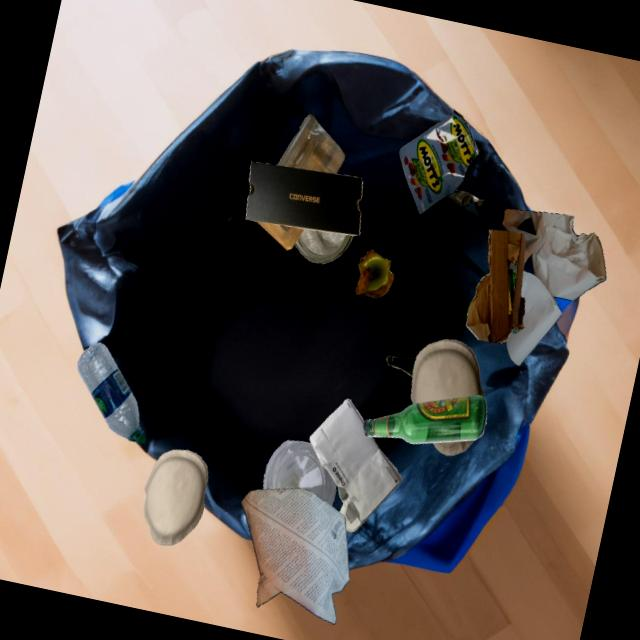biowaste: (355, 250, 393, 298)
cardboard: (245, 161, 362, 235), (466, 229, 525, 343)
glass: (362, 395, 486, 444), (294, 228, 353, 263), (386, 355, 416, 377)
paper: (502, 208, 605, 366), (241, 488, 349, 624), (309, 398, 402, 532), (143, 449, 207, 545), (410, 339, 484, 404)
plastic: (77, 342, 146, 444), (262, 440, 336, 506), (277, 114, 344, 173), (256, 221, 304, 250)
trash: (398, 109, 489, 219)
